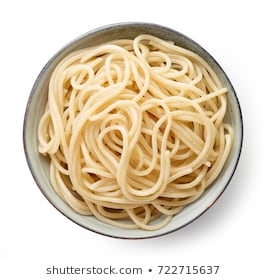plain spaghetti: (45, 52, 217, 210)
